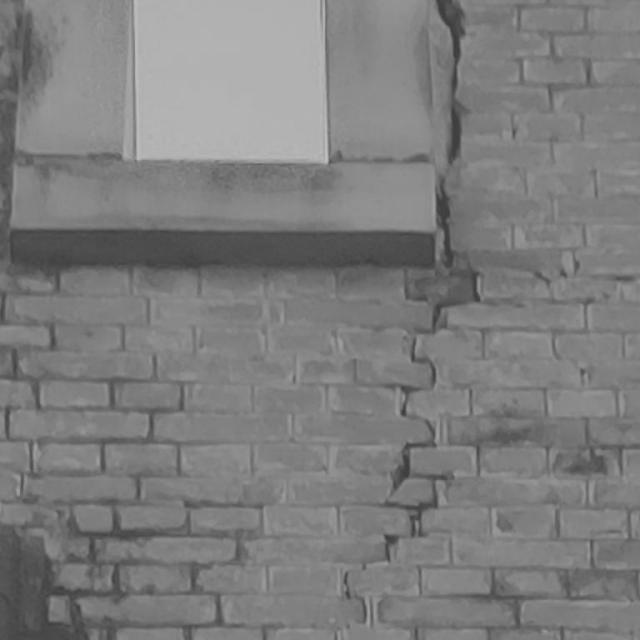crack: (343, 2, 481, 623)
